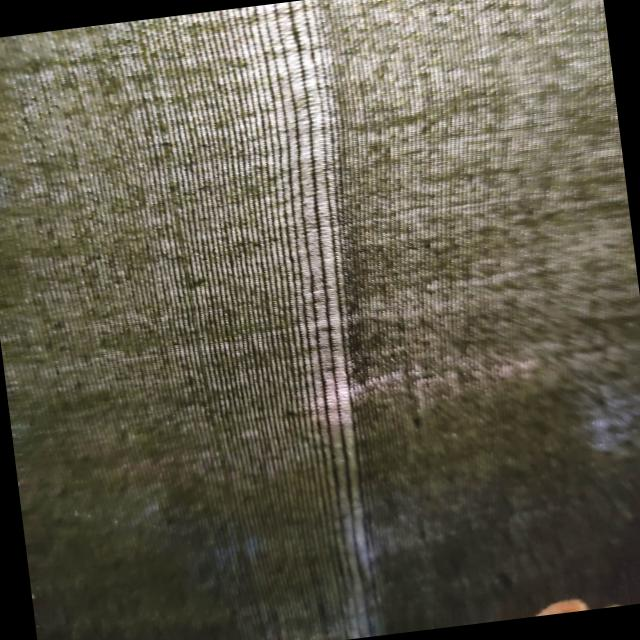baekra: (237, 0, 421, 639)
